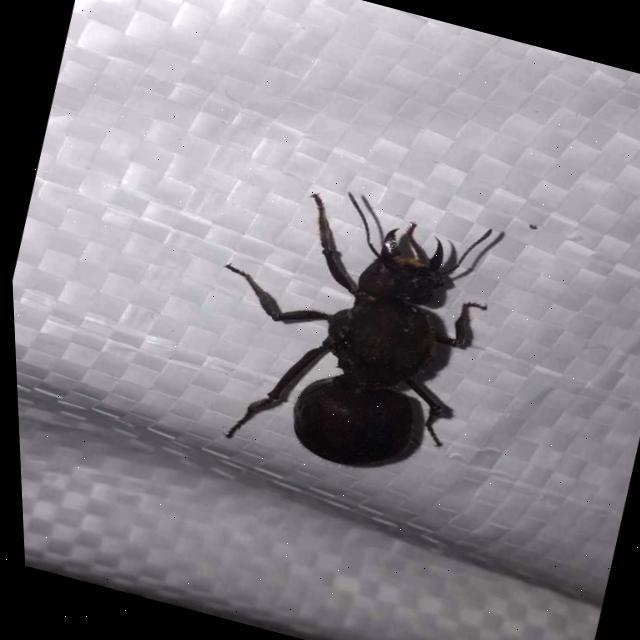Alive-Female-Dealate: (172, 163, 512, 496)
